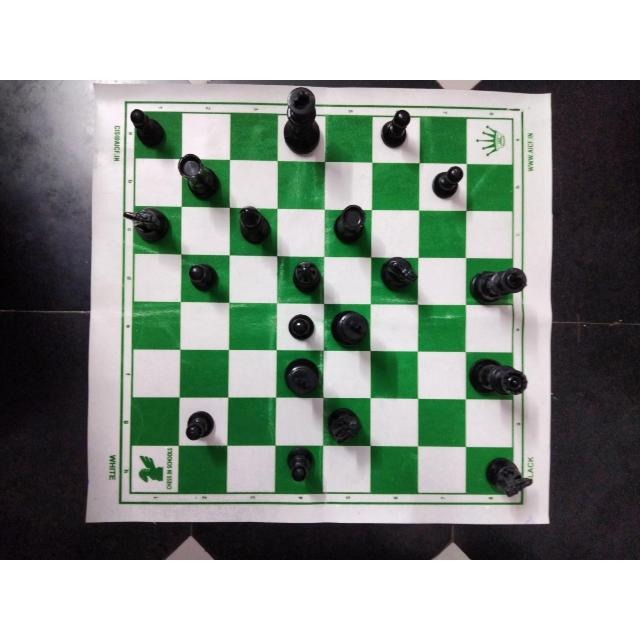black-bishop: (235, 205, 272, 245), (292, 260, 322, 294)
black-king: (283, 87, 325, 155), (467, 268, 526, 306), (330, 309, 370, 349), (283, 356, 323, 395)
black-knight: (480, 455, 536, 497), (117, 206, 172, 245), (325, 405, 365, 445), (376, 257, 417, 295)
black-pawn: (129, 108, 171, 148), (375, 109, 413, 149), (284, 445, 318, 484), (427, 167, 463, 203), (184, 407, 217, 443), (187, 261, 221, 293), (287, 313, 319, 343)
black-queen: (466, 356, 530, 398)
black-rook: (174, 152, 223, 200), (332, 201, 368, 246)
